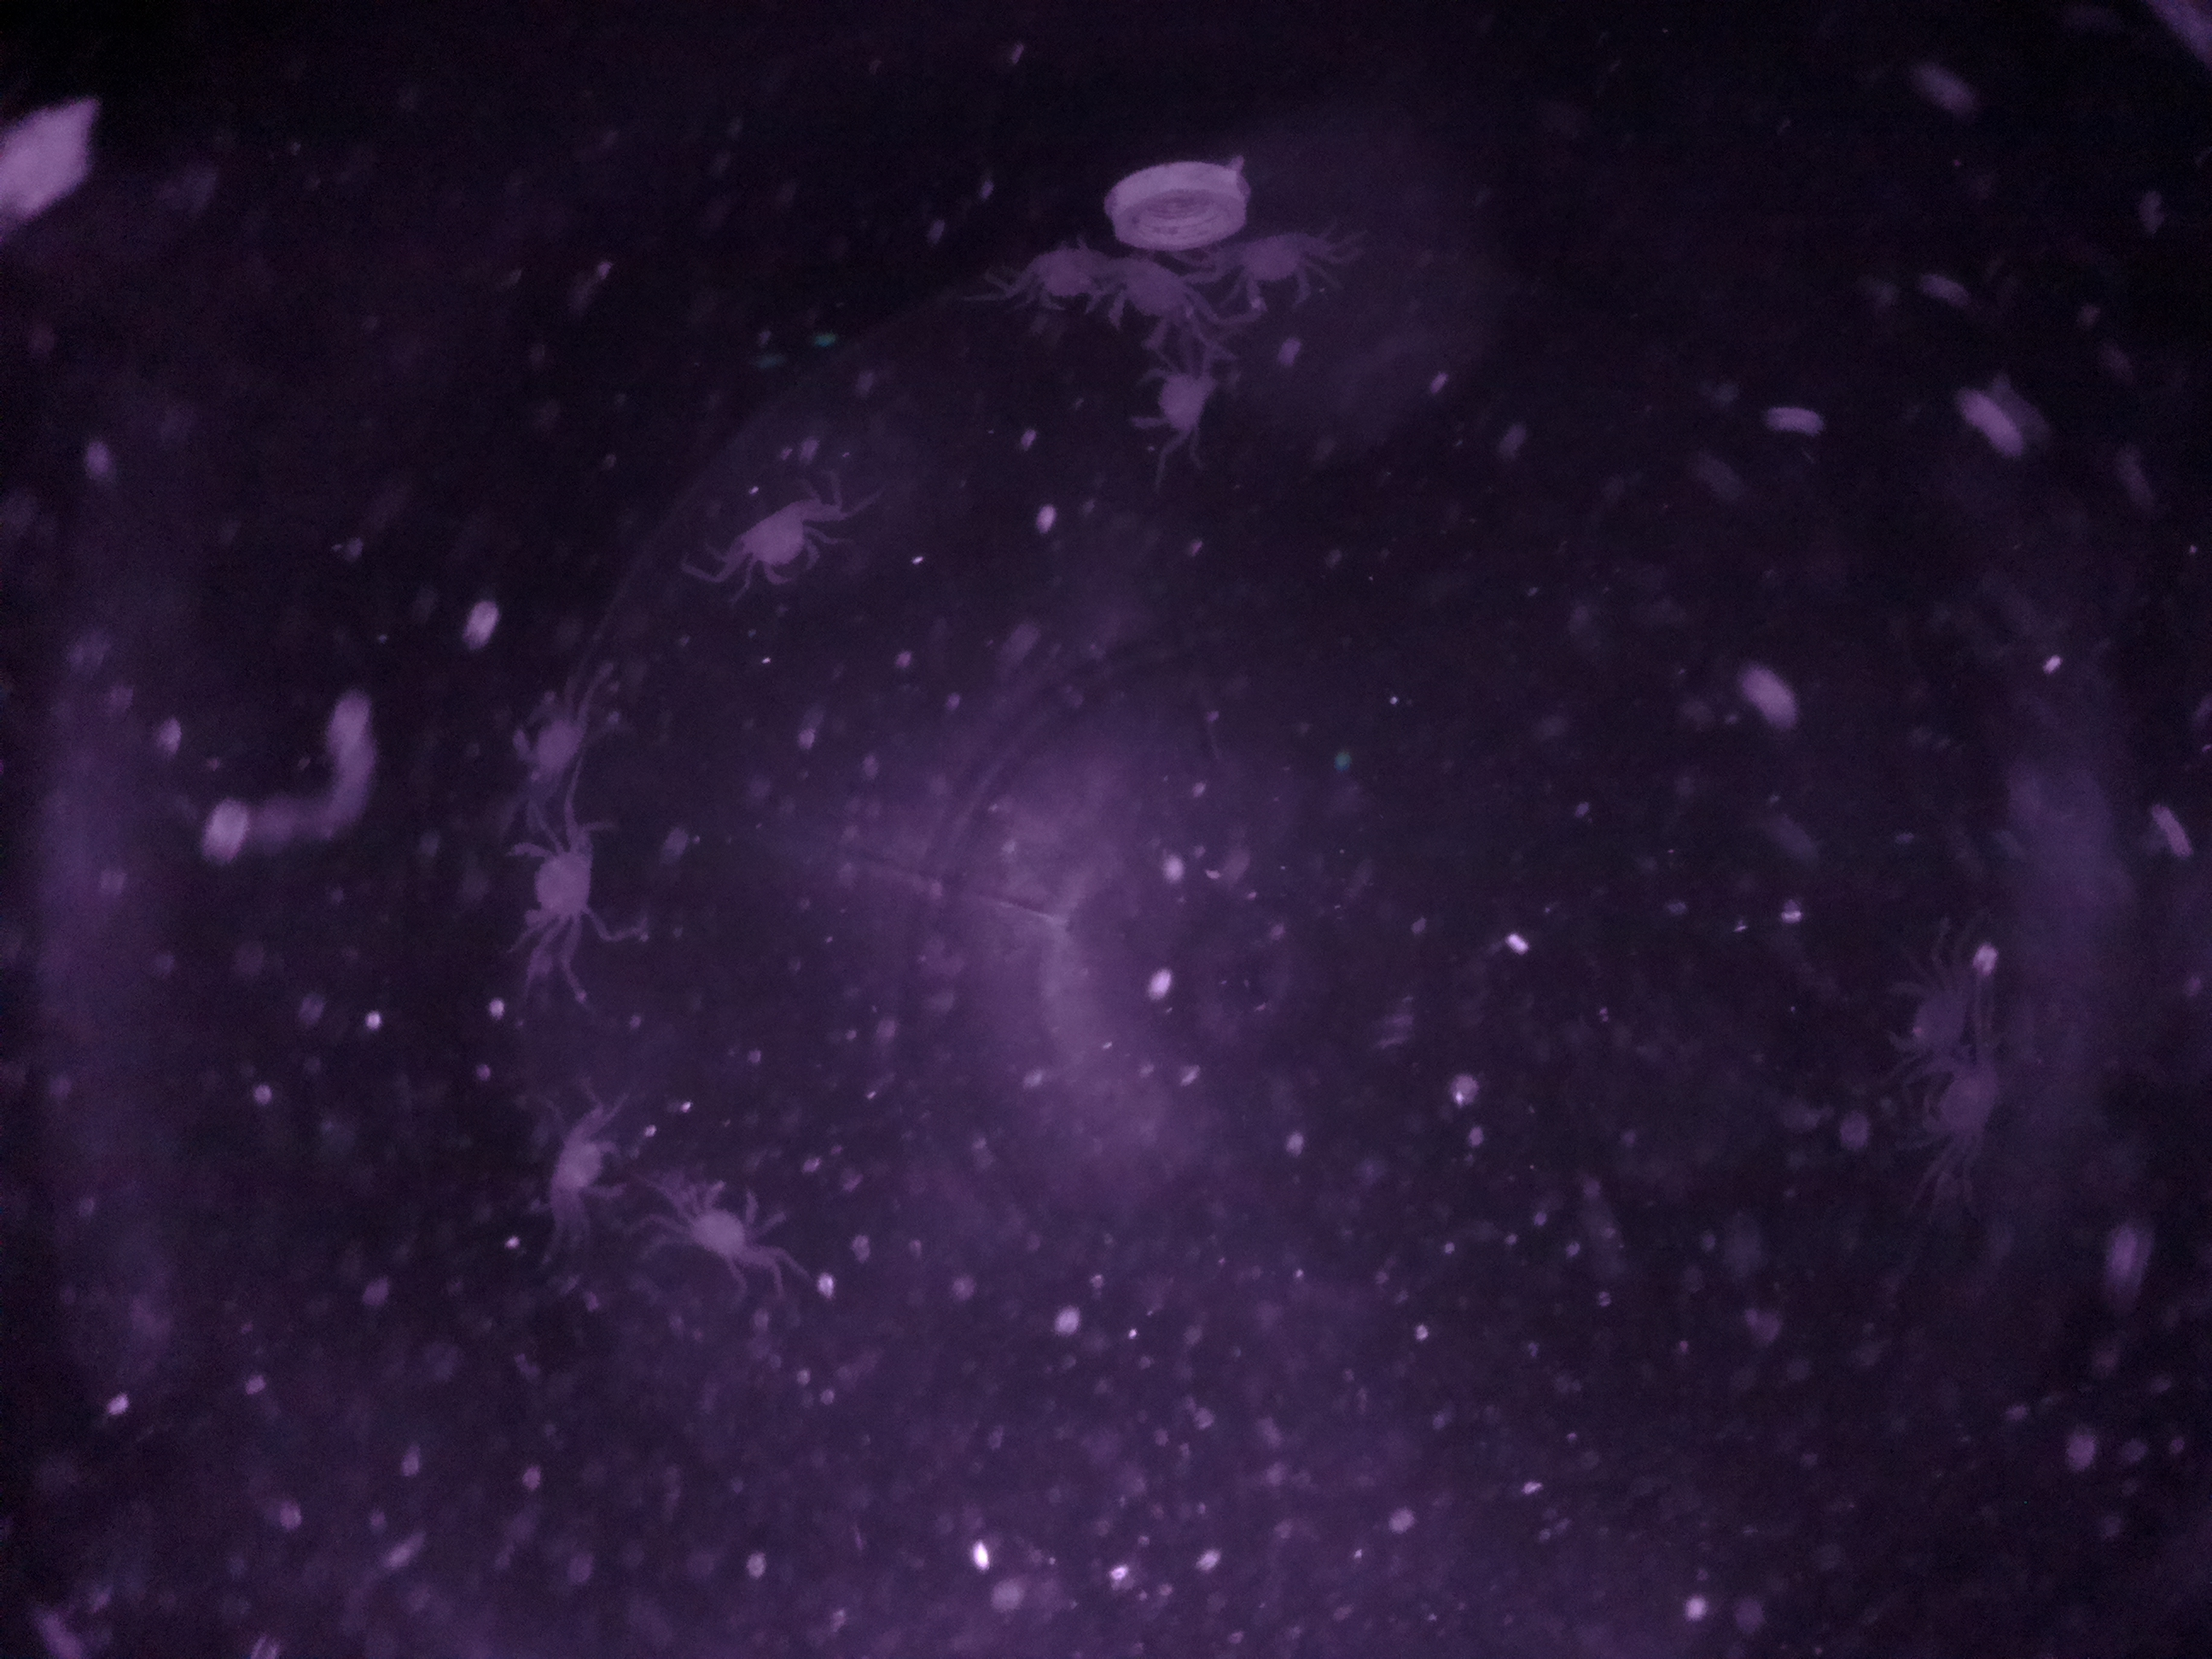Crab: (479, 817, 618, 950), (719, 477, 841, 608), (495, 678, 624, 795), (1113, 354, 1252, 448), (1096, 220, 1195, 350), (664, 1169, 775, 1276), (535, 1115, 631, 1225)
